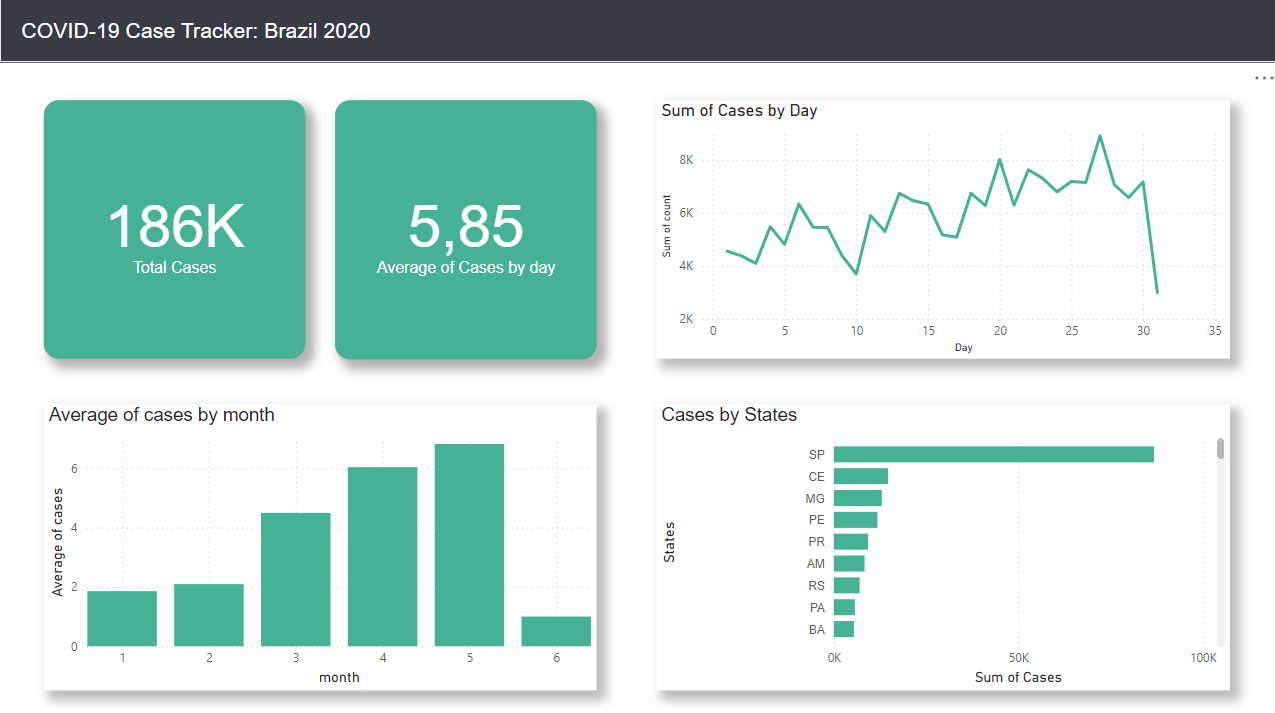

Layout of this report page (visuals, bound fields, positions):
{"tool":"powerbi","page":{"name":"Dashboard - Covid-19","canvas":[1280,720],"ordinal":0},"visuals":[{"type":"shape","box":[0,0,1280,63.8],"z":0},{"type":"textbox","box":[16.2,15,371.2,48.8],"z":1000},{"type":"card","fields":{"Values":["Sum(br_covid_gold_agg.count)"]},"box":[43.8,101.2,261.2,258.8],"z":2000},{"type":"columnChart","title":"Average of cases by month","fields":{"Category":["br_covid_gold_agg.month"],"Y":["Avg(br_covid_gold_agg.count)"]},"box":[43.8,405,552.5,286.2],"z":3000},{"type":"barChart","title":"Cases by States","fields":{"Category":["br_covid_gold_agg.SG_UF_NOT"],"Y":["Sum(br_covid_gold_agg.count)"]},"box":[656.2,405,573.8,286.2],"z":4000},{"type":"lineChart","title":"Sum of Cases by Day","fields":{"Category":["br_covid_gold_agg.DT_NOTIFICACAO.Variation.Date Hierarchy.Day"],"Y":["Sum(br_covid_gold_agg.count)"]},"box":[656.2,101.2,573.8,258.8],"z":5000},{"type":"card","fields":{"Values":["Avg(br_covid_gold_agg.count)"]},"box":[335.1,101.5,261.7,259.2],"z":5001}]}

Visuals, with their boxes in screenshot pixels (x1, y1, x2, y2), scaled from the page's 1280x720 canvas onto the 1275x713 screenshot:
shape: x1=0 y1=0 x2=1274 y2=63
textbox: x1=16 y1=15 x2=386 y2=63
card - Sum(br_covid_gold_agg.count): x1=44 y1=100 x2=304 y2=356
"Average of cases by month" columnChart: x1=44 y1=401 x2=594 y2=684
"Cases by States" barChart: x1=654 y1=401 x2=1225 y2=684
"Sum of Cases by Day" lineChart: x1=654 y1=100 x2=1225 y2=356
card - Avg(br_covid_gold_agg.count): x1=334 y1=101 x2=594 y2=357
